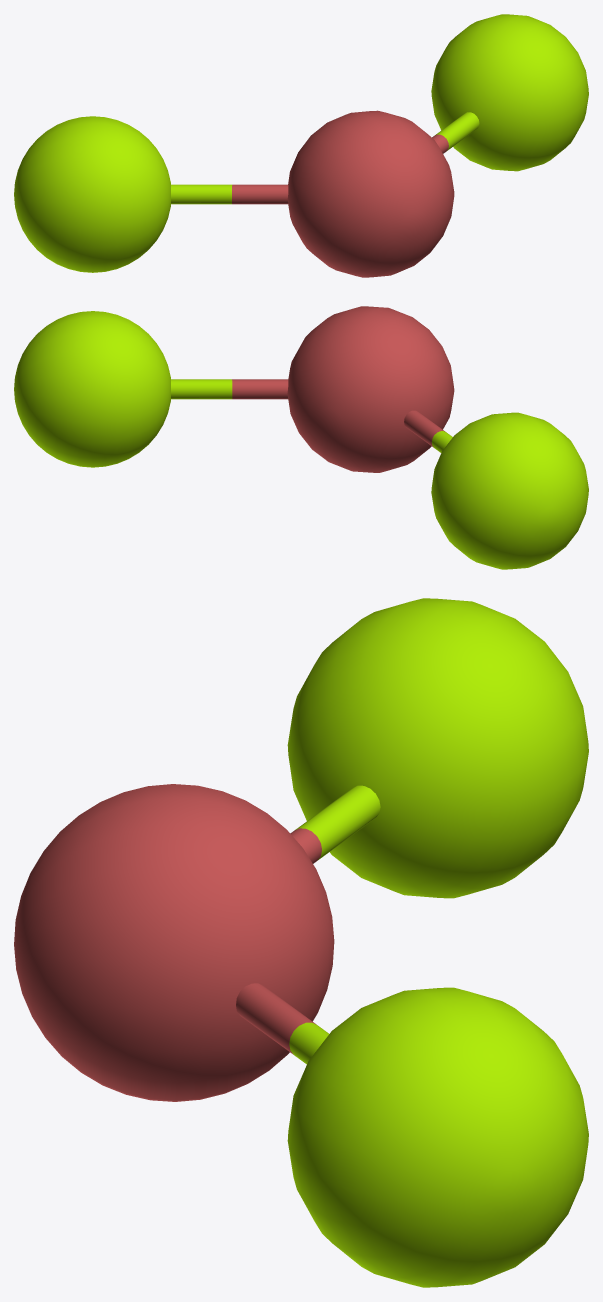
The model's file is BeH2.fbx.
The picture shows the model from 3 angles, top to bottom: view 1: azimuth 30°, elevation 25°; view 2: azimuth 150°, elevation 25°; view 3: azimuth 270°, elevation 25°; orthographic projection. The views are drawn at different scales.
Parts seen in each view (by area): view 1: BeH2; view 2: BeH2; view 3: BeH2.
Boxes of the visible parts, left/top/right/bottom form: BeH2: left=14, top=14, right=588, bottom=277; BeH2: left=14, top=306, right=588, bottom=569; BeH2: left=14, top=598, right=588, bottom=1287.
Size of the model in its own units: 10.4 by 2.73 by 4.89.
